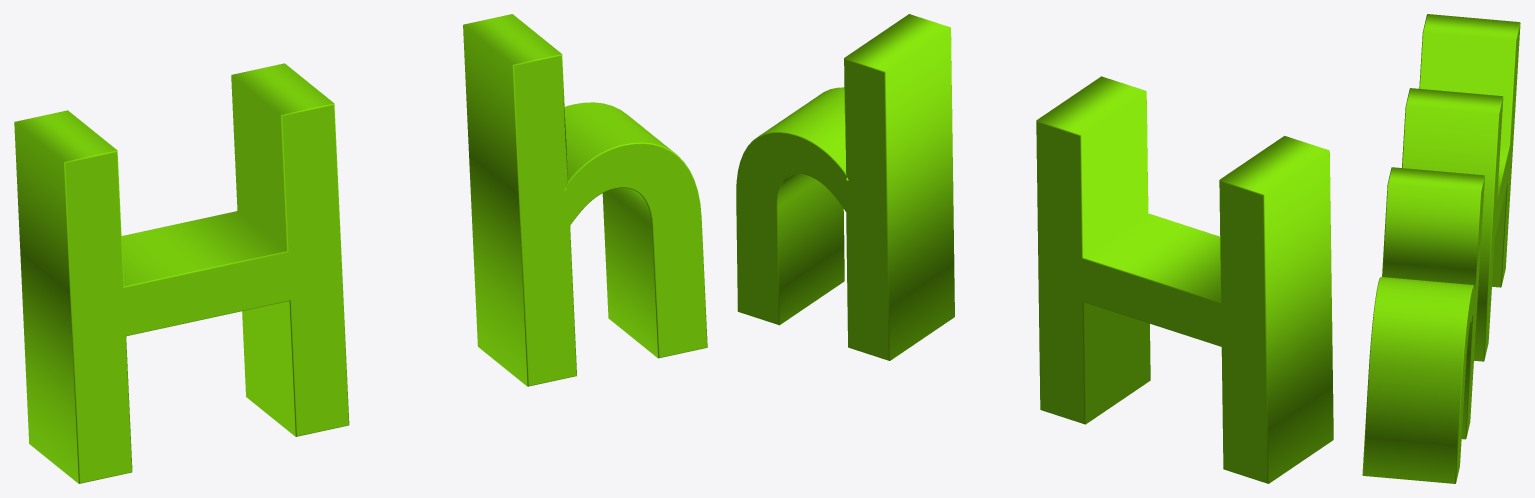
File: ObjectH.fbx
3 views of the same model, side by side, from view 1: azimuth 30°, elevation 25°; view 2: azimuth 150°, elevation 25°; view 3: azimuth 270°, elevation 25° (orthographic). The views are drawn at different scales.
Parts seen in each view (by area): view 1: Text; view 2: Text; view 3: Text.
Boxes of the visible parts, x1,y1,x2,y2 form: Text: [14, 14, 707, 483]; Text: [736, 14, 1333, 483]; Text: [1362, 14, 1520, 483].
Bounding box in the file's own units: 356 × 186 × 103.
